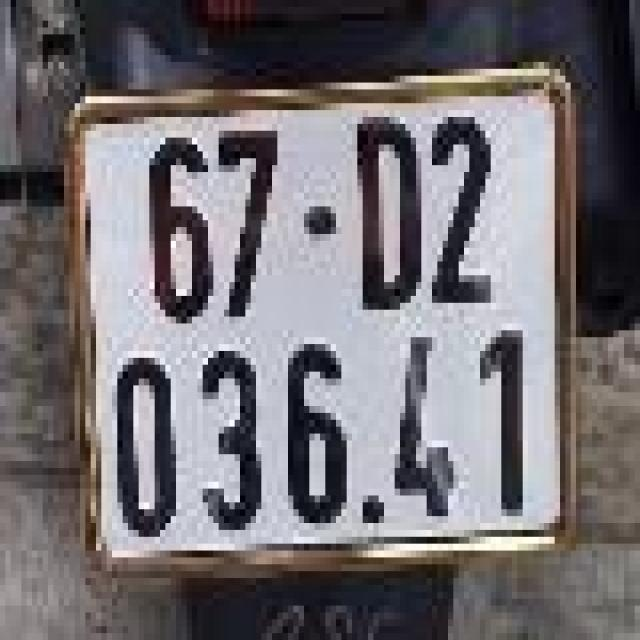0: (104, 337, 184, 551)
1: (474, 323, 538, 530)
2: (432, 103, 507, 317)
3: (194, 337, 274, 544)
4: (379, 323, 469, 530)
6: (133, 127, 219, 334), (274, 323, 354, 530)
7: (216, 113, 291, 327)
D: (346, 104, 426, 324)
